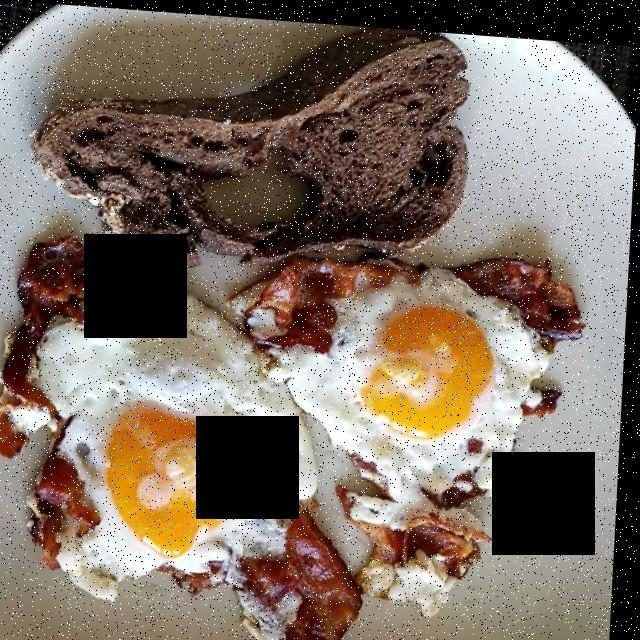bread: (35, 33, 464, 262)
egg: (37, 253, 559, 576)
